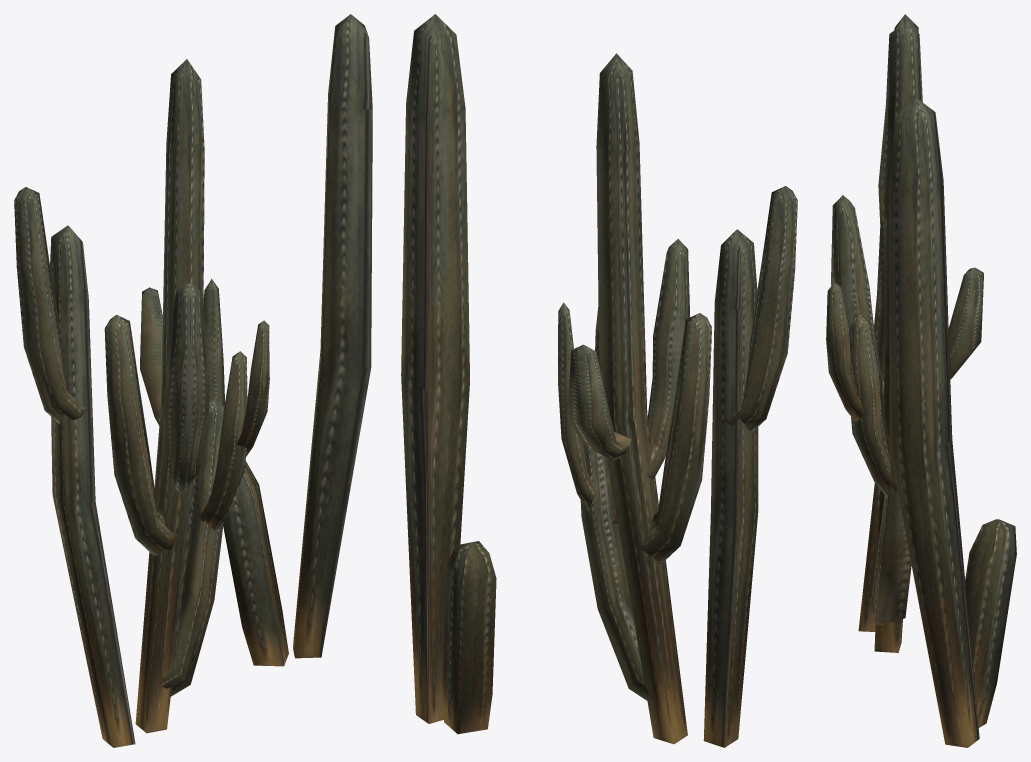
File: SC_tamalagebi_16.FBX
3 views of the same model, side by side, from view 1: azimuth 30°, elevation 25°; view 2: azimuth 150°, elevation 25°; view 3: azimuth 270°, elevation 25° (orthographic). The views are drawn at different scales.
Visible parts, largest first — view 1: SC_tamalagebi_16; view 2: SC_tamalagebi_16; view 3: SC_tamalagebi_16.
Boxes of the visible parts, box(x1,y1,x2,y2) form: SC_tamalagebi_16: box(14, 14, 372, 747); SC_tamalagebi_16: box(401, 14, 797, 747); SC_tamalagebi_16: box(826, 14, 1016, 747).
Bounding box in the file's own units: 214 × 363 × 95.96.
